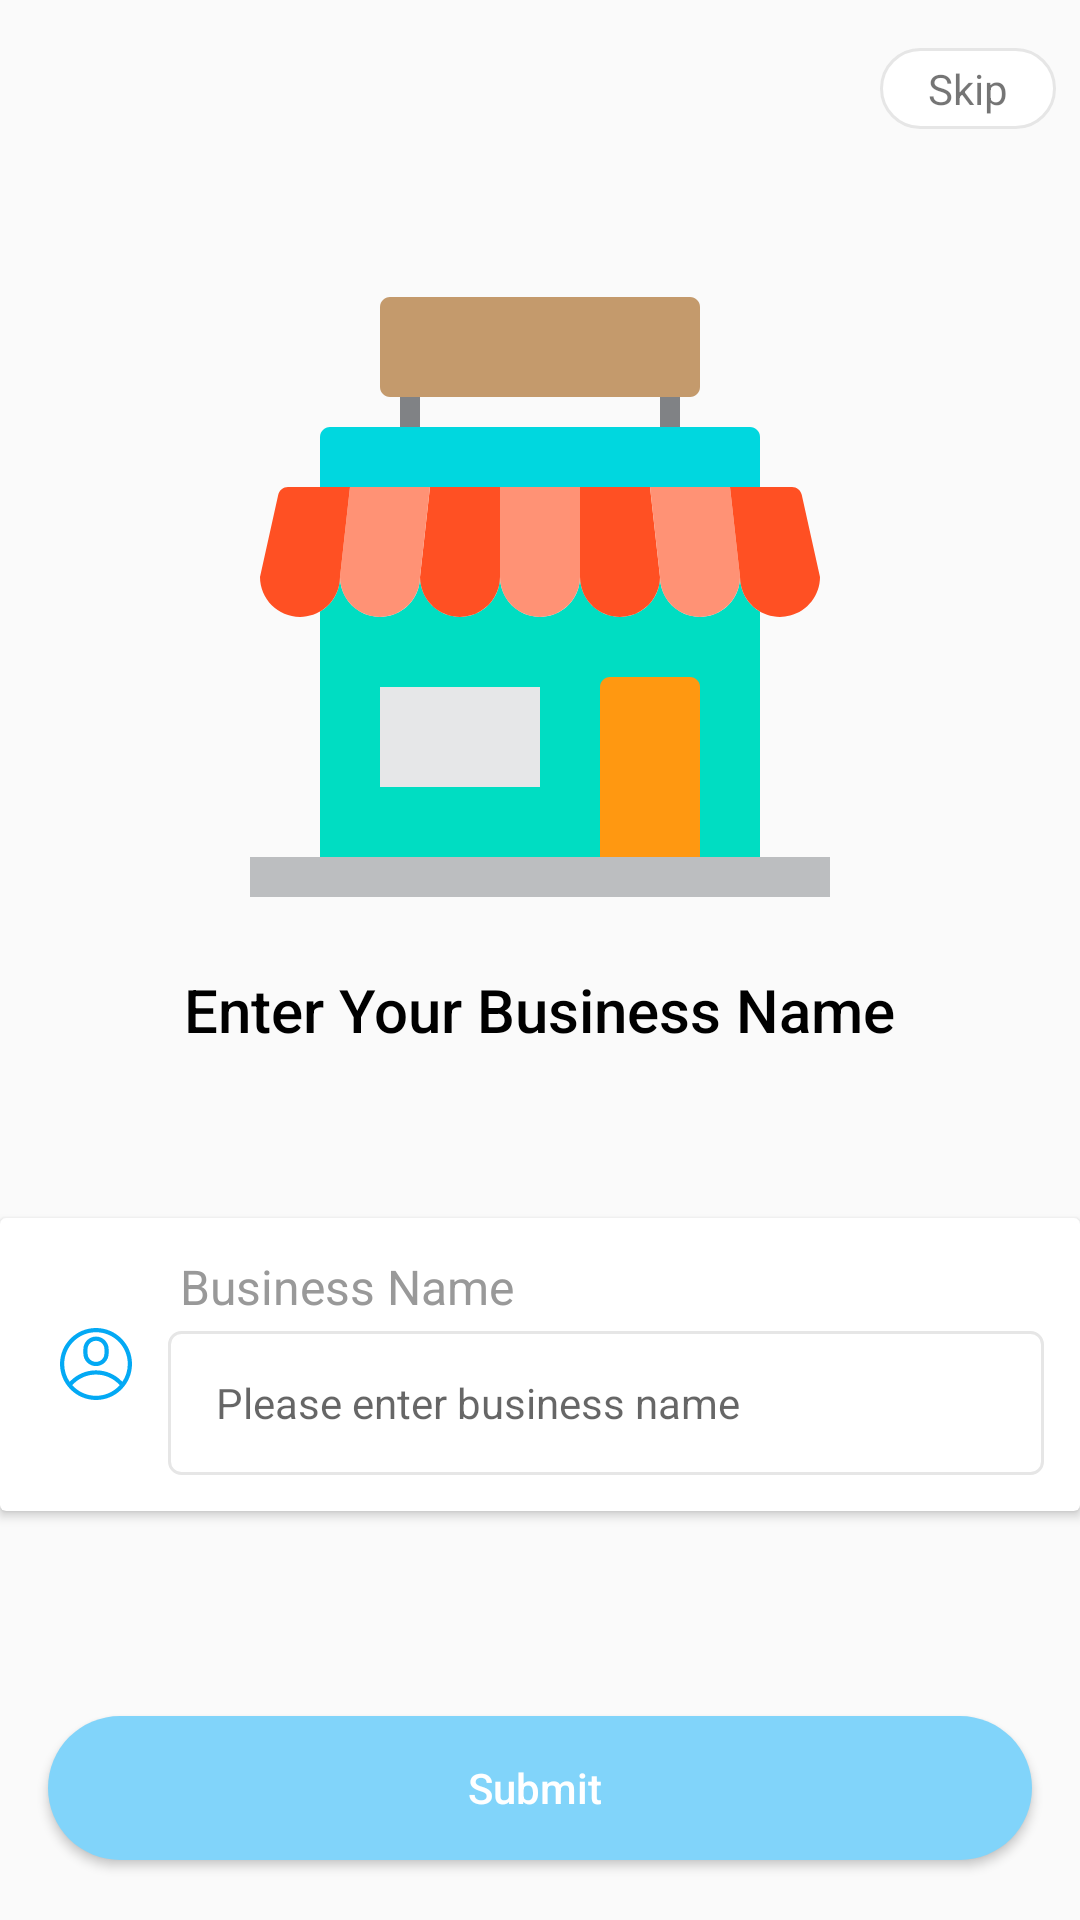

Locate icon controls on the screen. Image size 1080 x 1920, boxes as [x1,y1,x2,y2].
account: [60,1328,132,1400]
